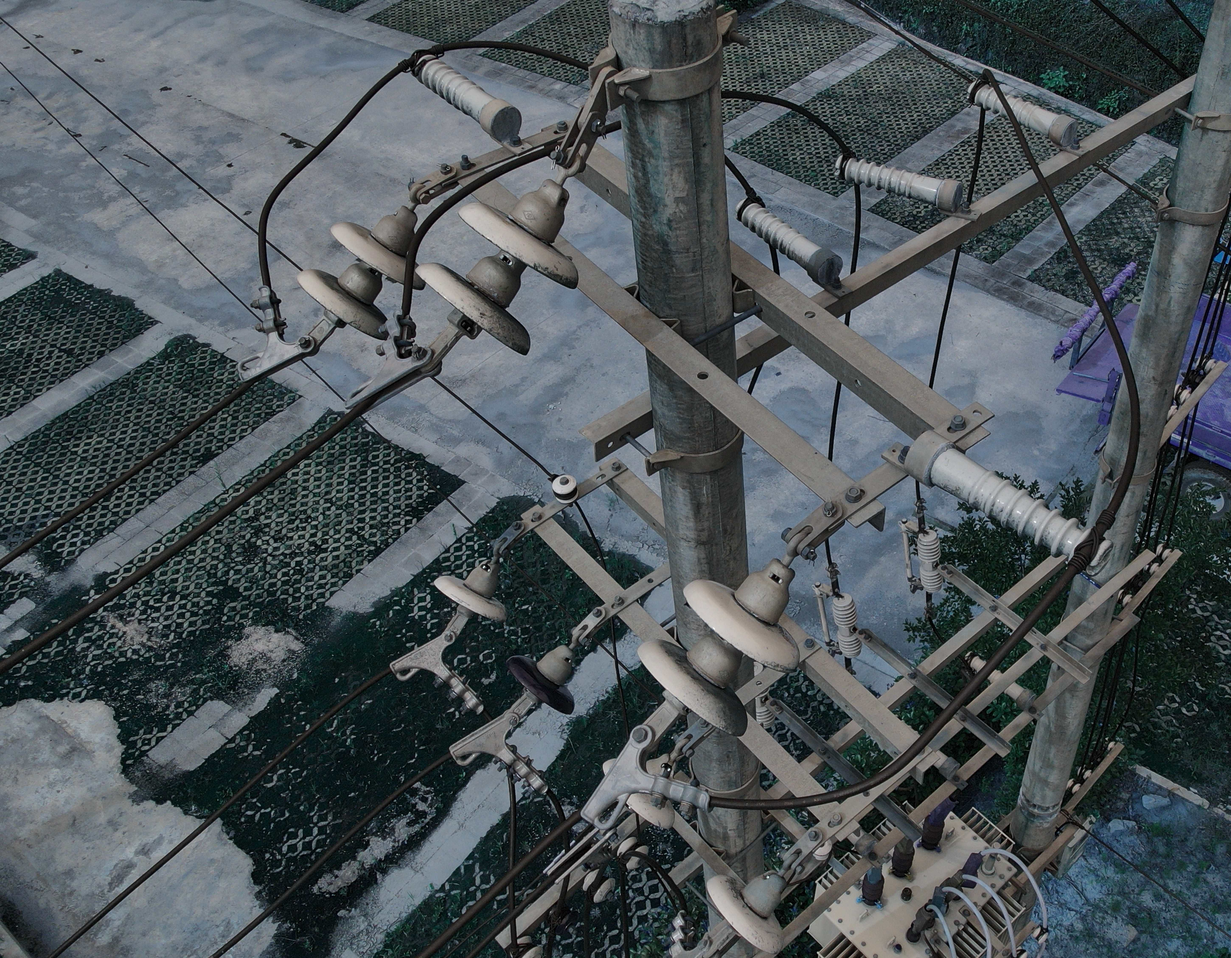severe_soiling_no_discharge_whole: (401, 174, 586, 362), (899, 424, 1118, 582), (630, 553, 806, 741), (290, 201, 432, 343), (404, 46, 523, 143), (732, 193, 847, 288), (963, 76, 1081, 150), (702, 860, 792, 956), (831, 152, 965, 214), (431, 550, 514, 625), (577, 868, 618, 906)
